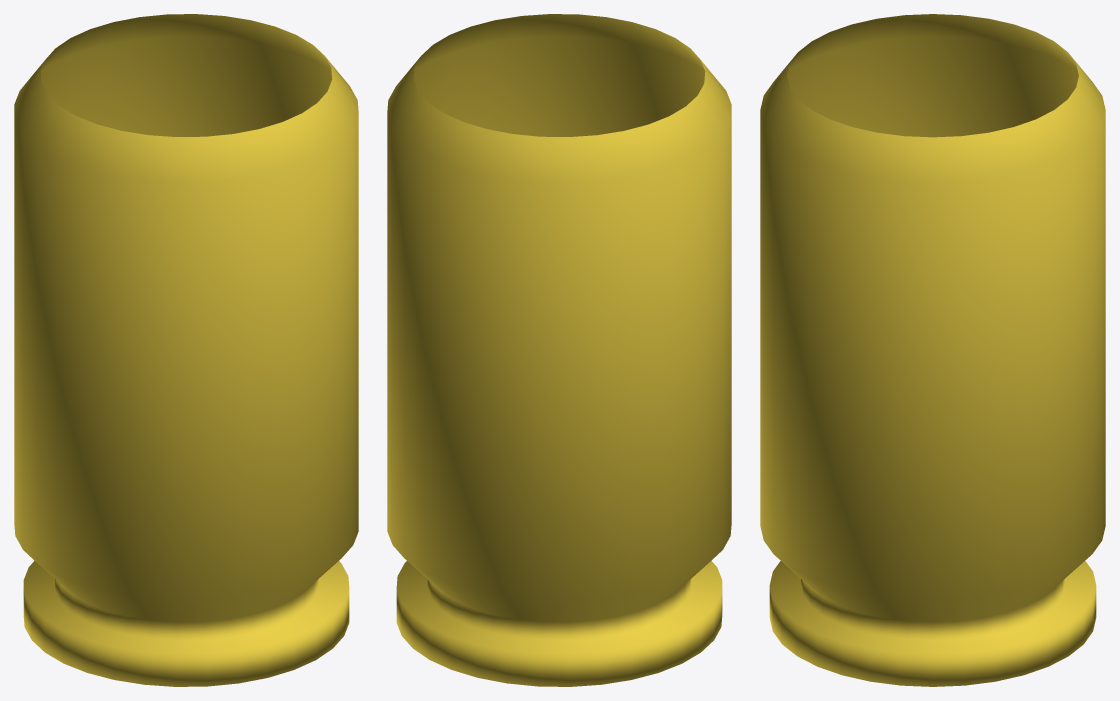
Rendered from 9mm2douille.glb.
3 renders of one model, left to right at view 1: azimuth 30°, elevation 25°; view 2: azimuth 150°, elevation 25°; view 3: azimuth 270°, elevation 25°, orthographic.
Visible parts, largest first — view 1: Cylinder; view 2: Cylinder; view 3: Cylinder.
Boxes of the visible parts, bbox=[...] form: Cylinder: bbox=[14, 14, 358, 686]; Cylinder: bbox=[387, 14, 731, 686]; Cylinder: bbox=[760, 14, 1105, 686].
Size of the model in its own units: 1.46 by 2.53 by 1.46.
